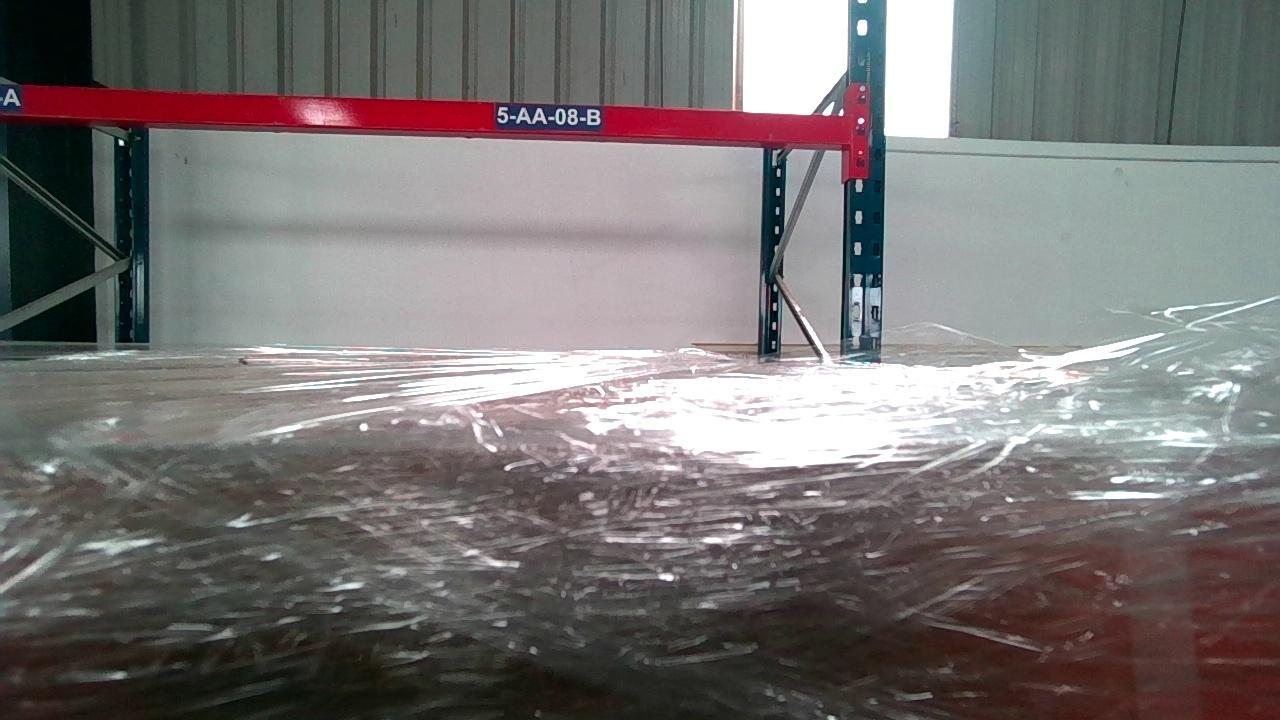h_rack: (0, 84, 854, 144)
